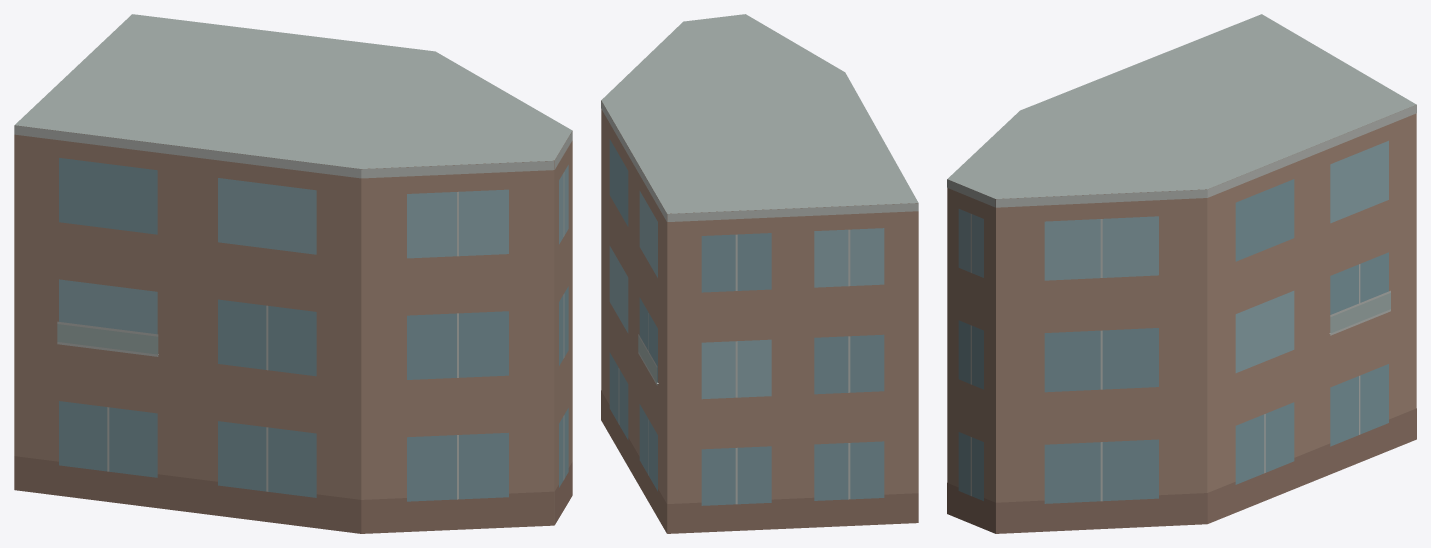
Rendered from survey-upis-33010280.glb.
The picture shows the model from 3 angles, left to right: view 1: azimuth 30°, elevation 25°; view 2: azimuth 150°, elevation 25°; view 3: azimuth 270°, elevation 25°; orthographic projection. The views are drawn at different scales.
Visible parts, largest first — view 1: survey-upis-33010280.tmp; view 2: survey-upis-33010280.tmp; view 3: survey-upis-33010280.tmp.
Part boxes in pixels (x1,y1,x2,y2): survey-upis-33010280.tmp: [14, 14, 572, 533]; survey-upis-33010280.tmp: [601, 14, 918, 533]; survey-upis-33010280.tmp: [947, 14, 1416, 533].
Size of the model in its own units: 11.22 by 9.46 by 12.04.
